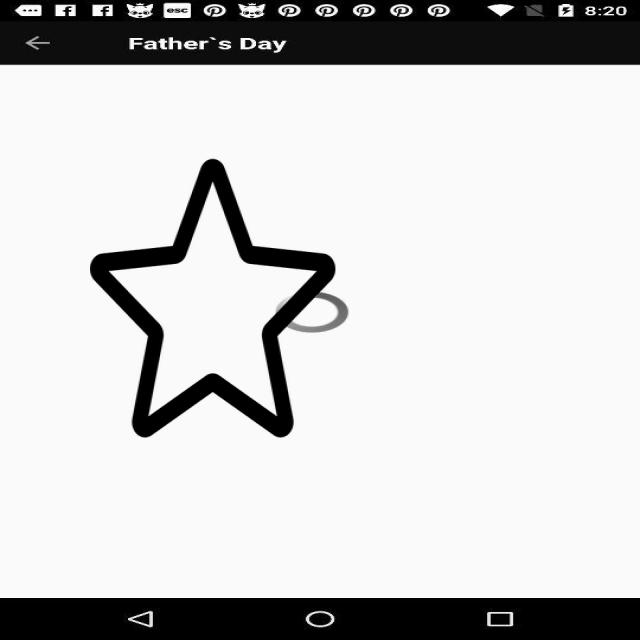forced continuity: (90, 153, 335, 443)
